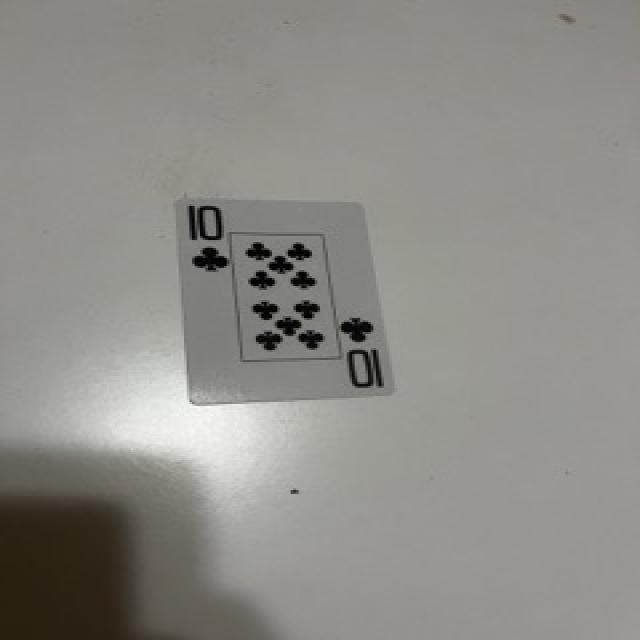10 of clubs: (175, 200, 393, 404)
